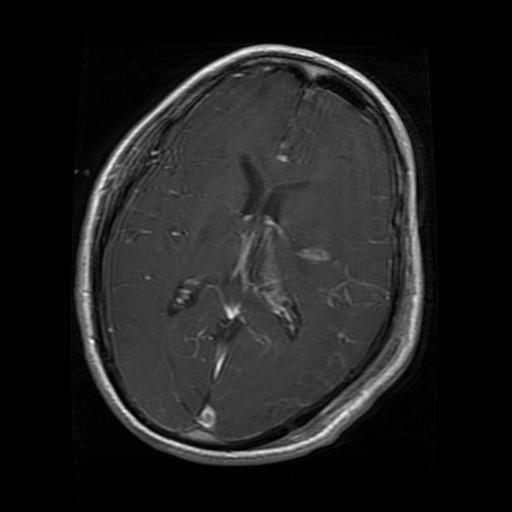Tumour-Glioma: (245, 262, 312, 369)
